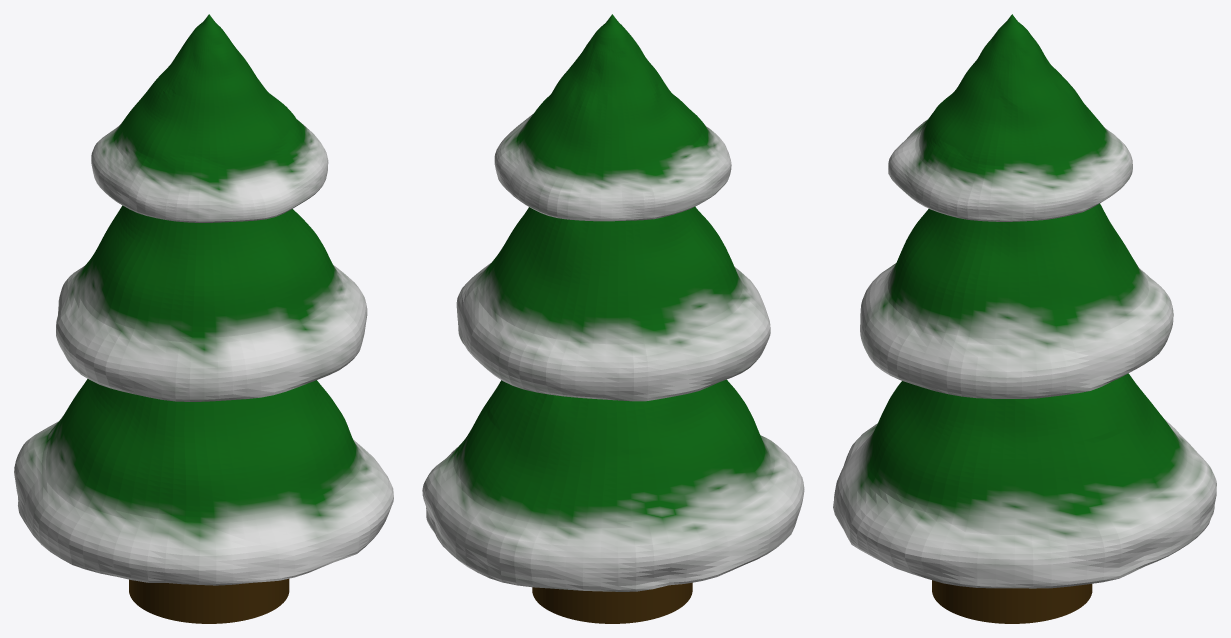
The model's file is tree_2.glb.
The picture shows the model from 3 angles, left to right: view 1: azimuth 30°, elevation 25°; view 2: azimuth 150°, elevation 25°; view 3: azimuth 270°, elevation 25°; orthographic projection.
Visible parts, largest first — view 1: Cone 2; view 2: Cone 2; view 3: Cone 2.
Boxes of the visible parts, x1,y1,x2,y2 form: Cone 2: [14, 14, 393, 623]; Cone 2: [422, 14, 804, 623]; Cone 2: [833, 14, 1216, 623].
Size of the model in its own units: 1.33 by 2.28 by 1.38.
